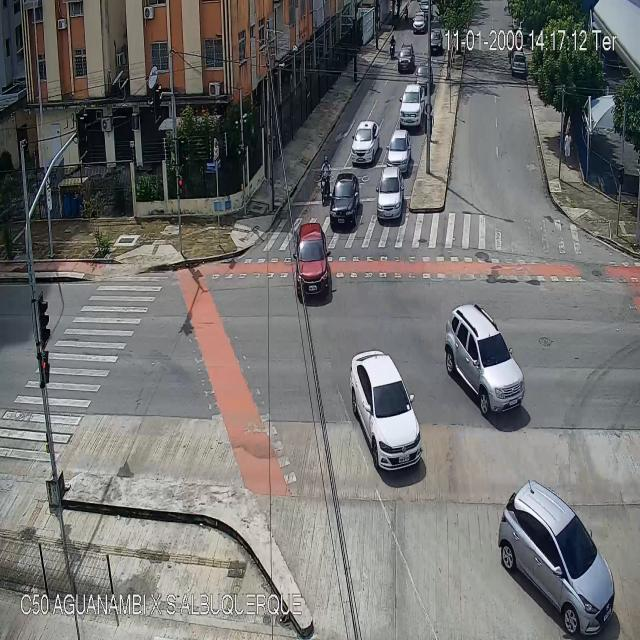Car: (498, 481, 615, 637), (446, 301, 525, 415), (350, 349, 421, 473), (293, 223, 331, 300), (331, 173, 360, 231), (375, 163, 403, 222), (351, 118, 380, 163), (386, 126, 410, 170), (400, 85, 424, 128), (398, 43, 415, 73), (417, 63, 432, 92), (412, 9, 427, 31), (429, 29, 442, 54), (512, 53, 525, 76)
Motorcycle: (321, 156, 330, 208), (389, 32, 395, 59), (404, 7, 408, 25)
